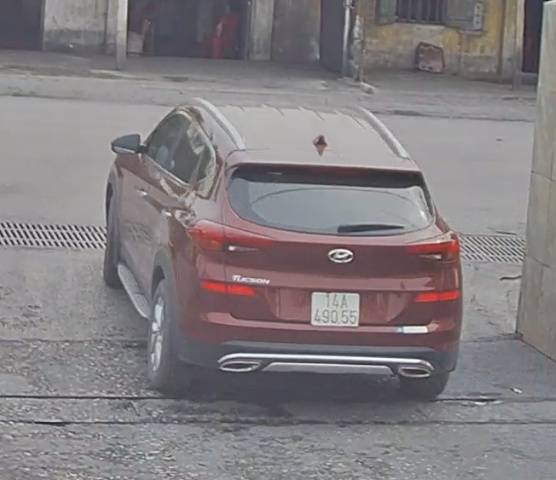vehicle plate: (310, 286, 366, 327)
